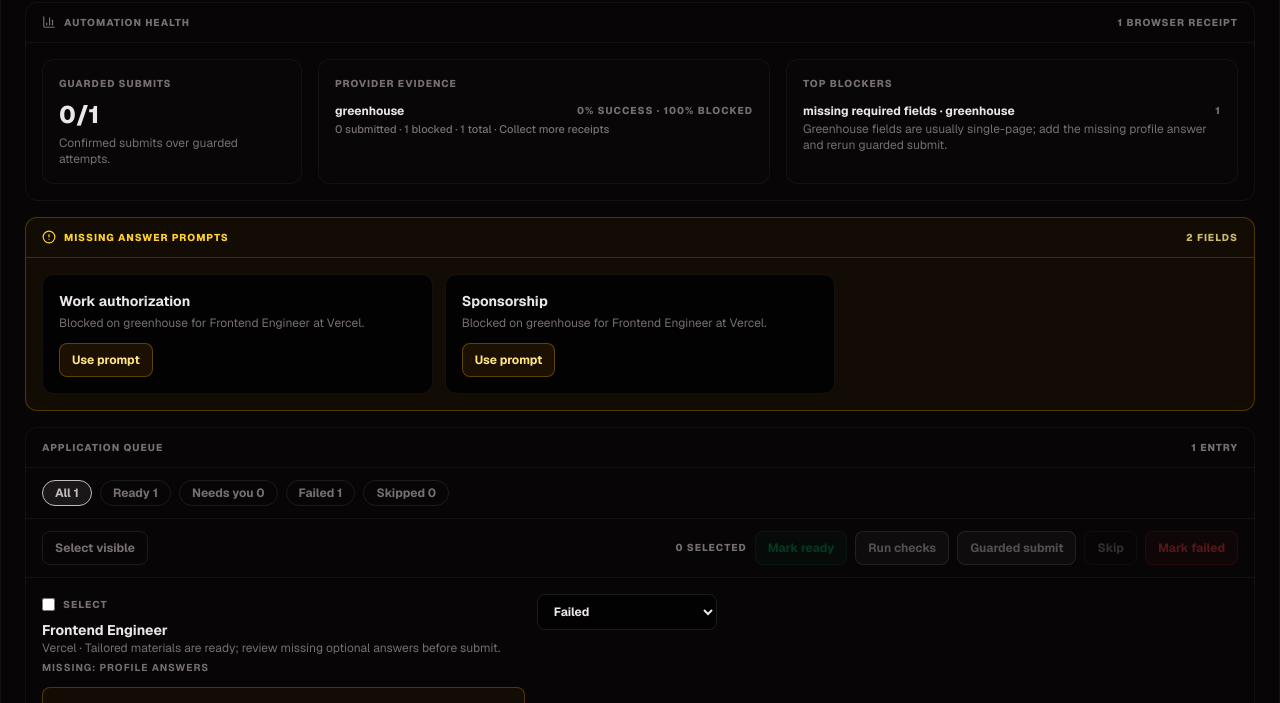
Test: ApplyAgentCommandCenter › turns missing required browser fields into profile-answer prompts
(page scrolled)
Check: the text "Missing answer prompts" is shown, box top-left (42, 230), bottom-right (229, 244)
Check: the text "Work authorization" is shown, box top-left (59, 292), bottom-right (190, 310)
Click the 1st button "Use prompt": (106, 360) top-left (59, 342), bottom-right (153, 376)
(page scrolled)
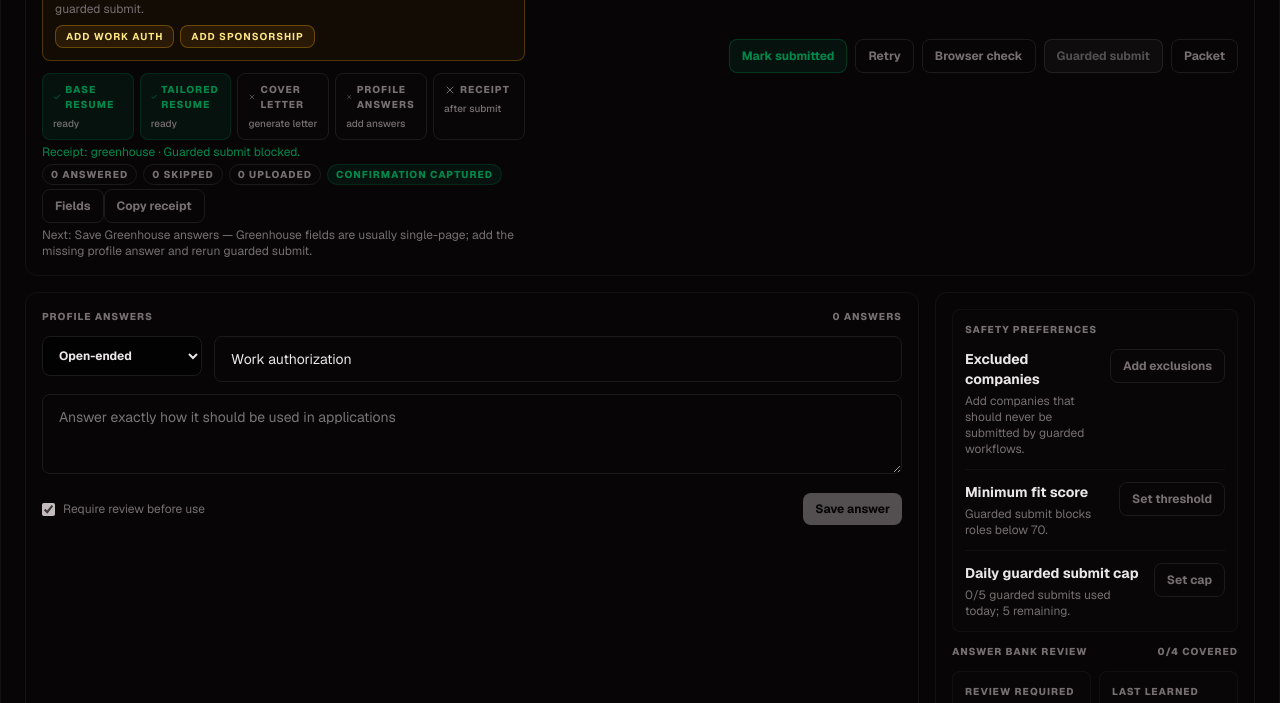
Check: the field showing "Work authorization" is shown, box top-left (214, 336), bottom-right (902, 382)
